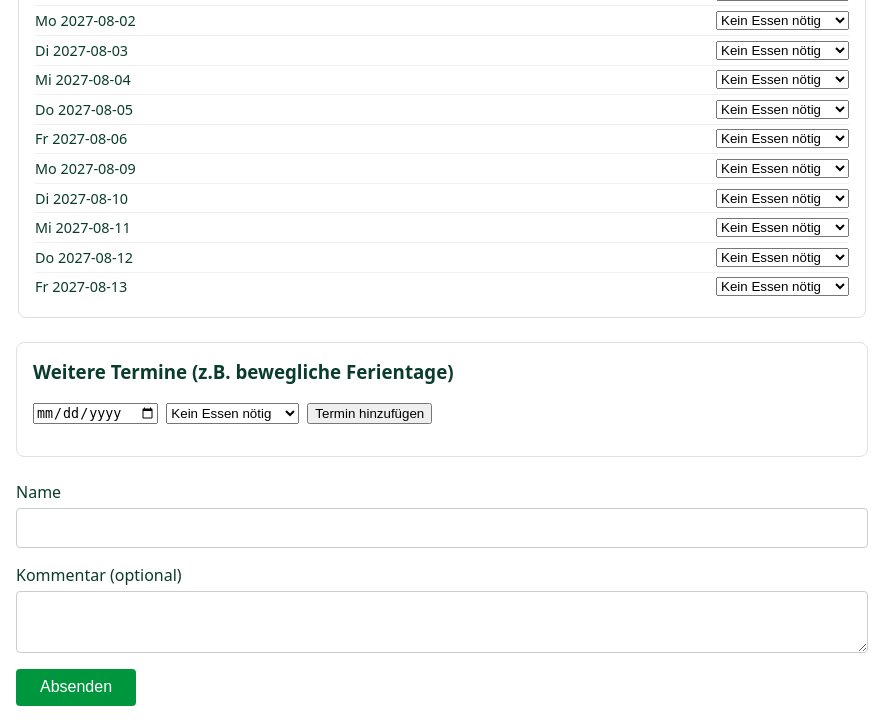
Test: SurveyForm › verhindert das Absenden ohne Namen und zeigt einen Hinweis
(page scrolled)
Click the button "Absenden": (76, 688) [16,669,136,706]
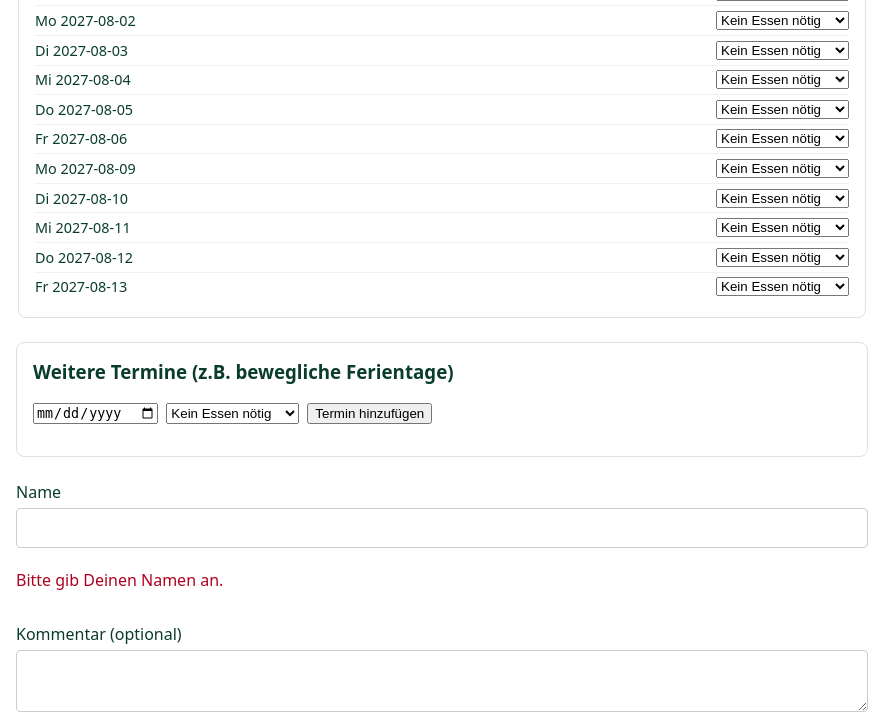
Result: the text "Bitte gib Deinen Namen an." is shown at [16,569,223,591]
